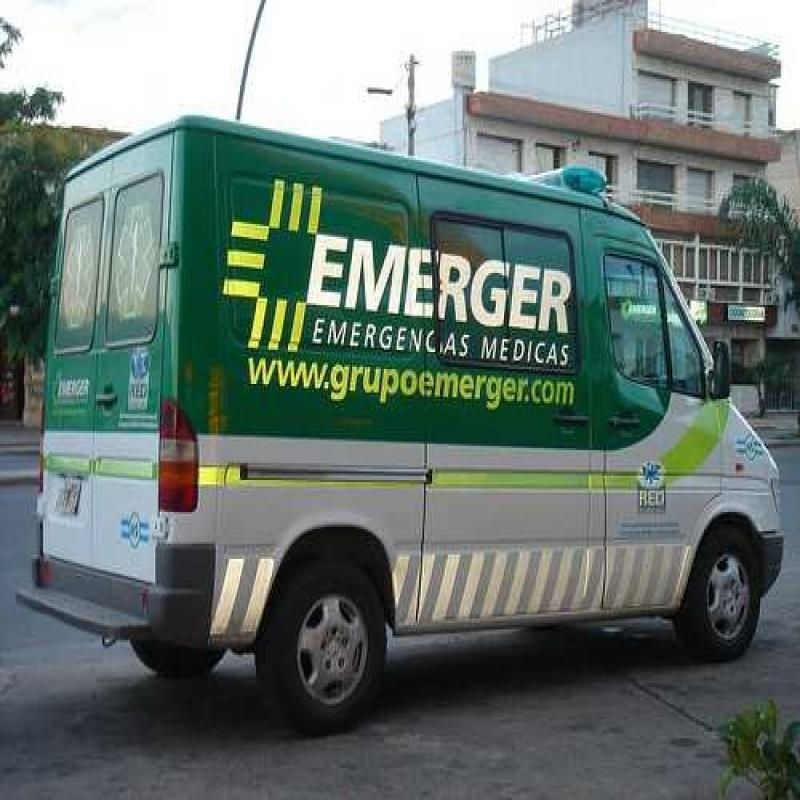AmbulanceSiren: (527, 153, 614, 201)
